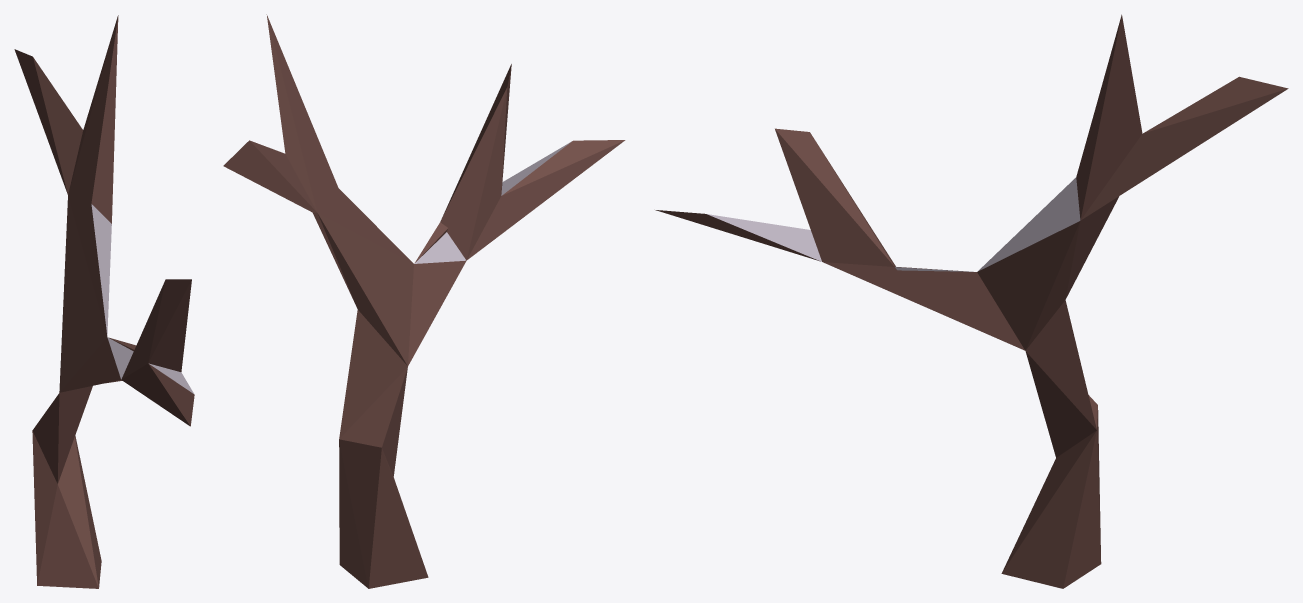
File: Willow_Dead_Snow_5.lod3.glb
3 renders of one model, left to right at view 1: azimuth 30°, elevation 25°; view 2: azimuth 150°, elevation 25°; view 3: azimuth 270°, elevation 25°, orthographic. The views are drawn at different scales.
Parts seen in each view (by area): view 1: Willow_Dead_Snow_5; view 2: Willow_Dead_Snow_5; view 3: Willow_Dead_Snow_5.
Part boxes in pixels (left/top/right/bottom): Willow_Dead_Snow_5: left=14, top=15, right=194, bottom=588; Willow_Dead_Snow_5: left=223, top=14, right=625, bottom=588; Willow_Dead_Snow_5: left=655, top=14, right=1288, bottom=588.
Size of the model in its own units: 0.5425 by 2.07 by 1.98.
